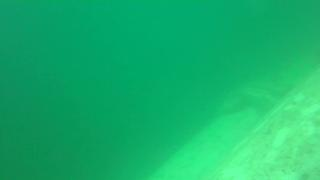pipe: (144, 86, 289, 180), (202, 68, 320, 180)
